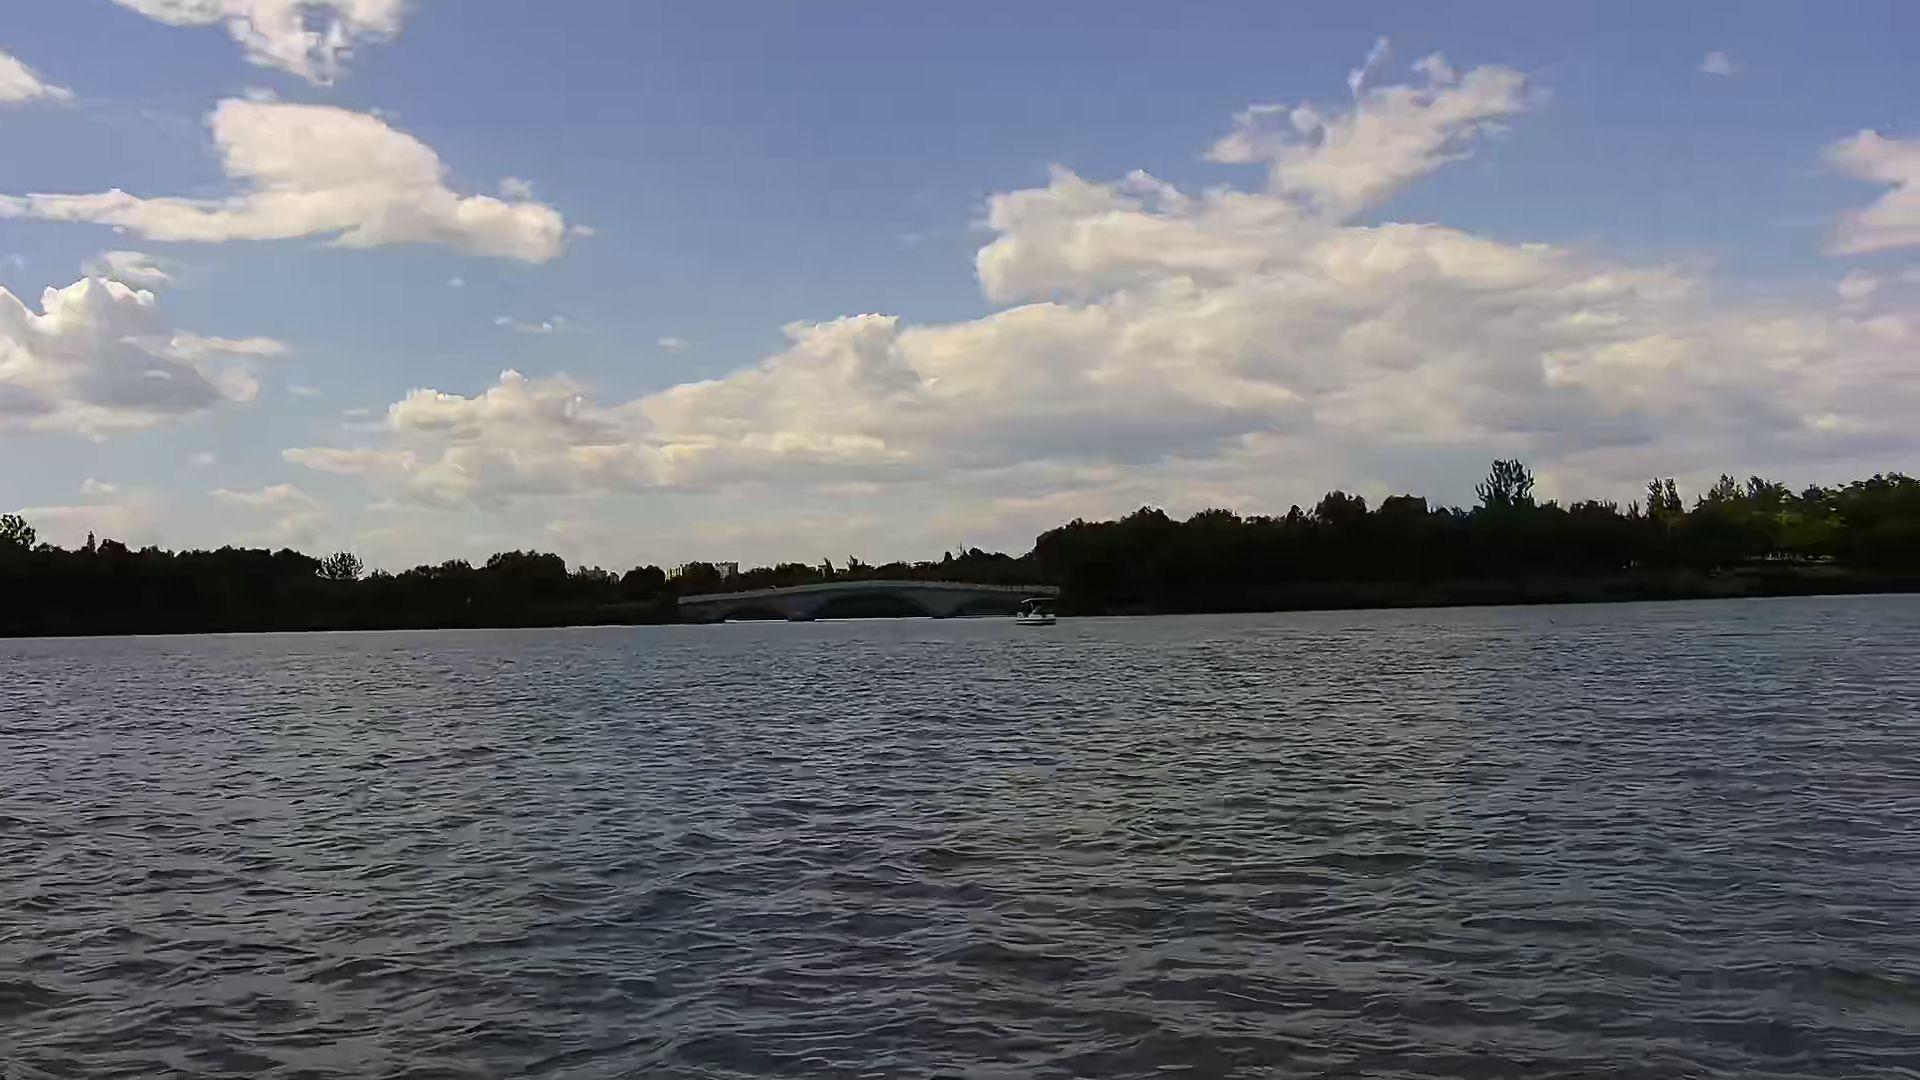boat: (1015, 592, 1058, 625)
bridge: (678, 580, 1062, 622)
